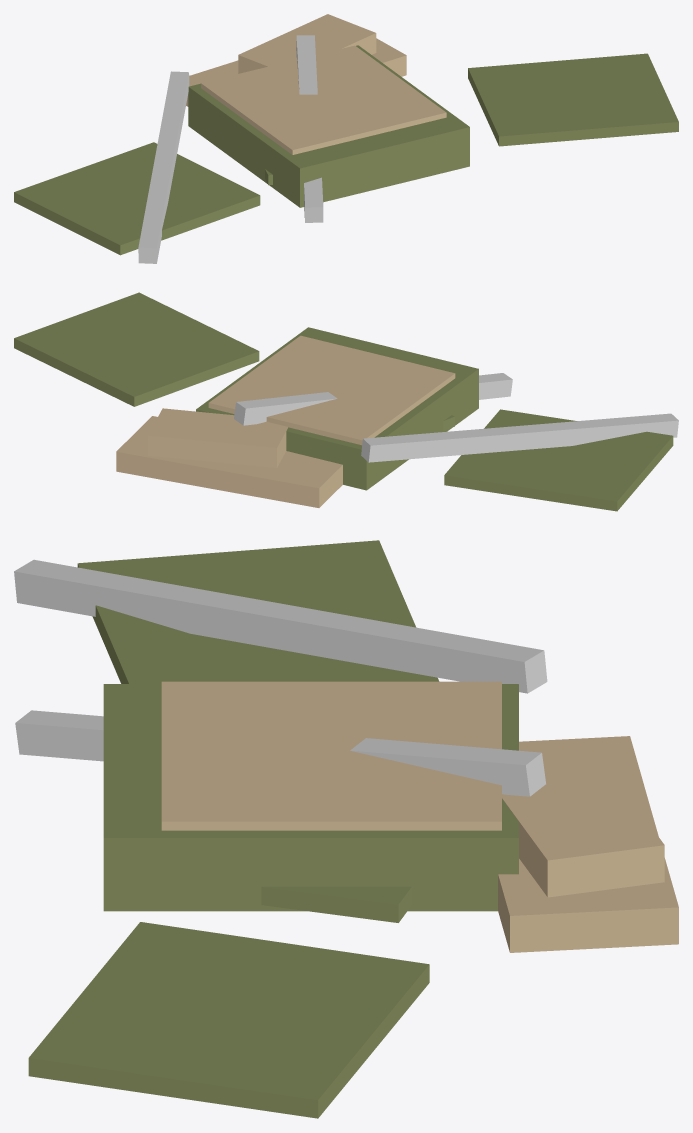
File: SM_HescoCorto1_v0_MallaLimpia_e3_Brecha_LOD1.fbx
3 renders of one model, top to bottom at view 1: azimuth 30°, elevation 25°; view 2: azimuth 150°, elevation 25°; view 3: azimuth 270°, elevation 25°, orthographic. The views are drawn at different scales.
Parts seen in each view (by area): view 1: SM_hesco_piezas_v43_LOD1; view 2: SM_hesco_piezas_v43_LOD1; view 3: SM_hesco_piezas_v43_LOD1.
Part boxes in pixels (x1=…): SM_hesco_piezas_v43_LOD1: x1=14, y1=14, x2=678, y2=263; SM_hesco_piezas_v43_LOD1: x1=14, y1=292, x2=678, y2=511; SM_hesco_piezas_v43_LOD1: x1=14, y1=540, x2=678, y2=1118.
Bounding box in the file's own units: 3.89 × 0.351 × 1.95.
